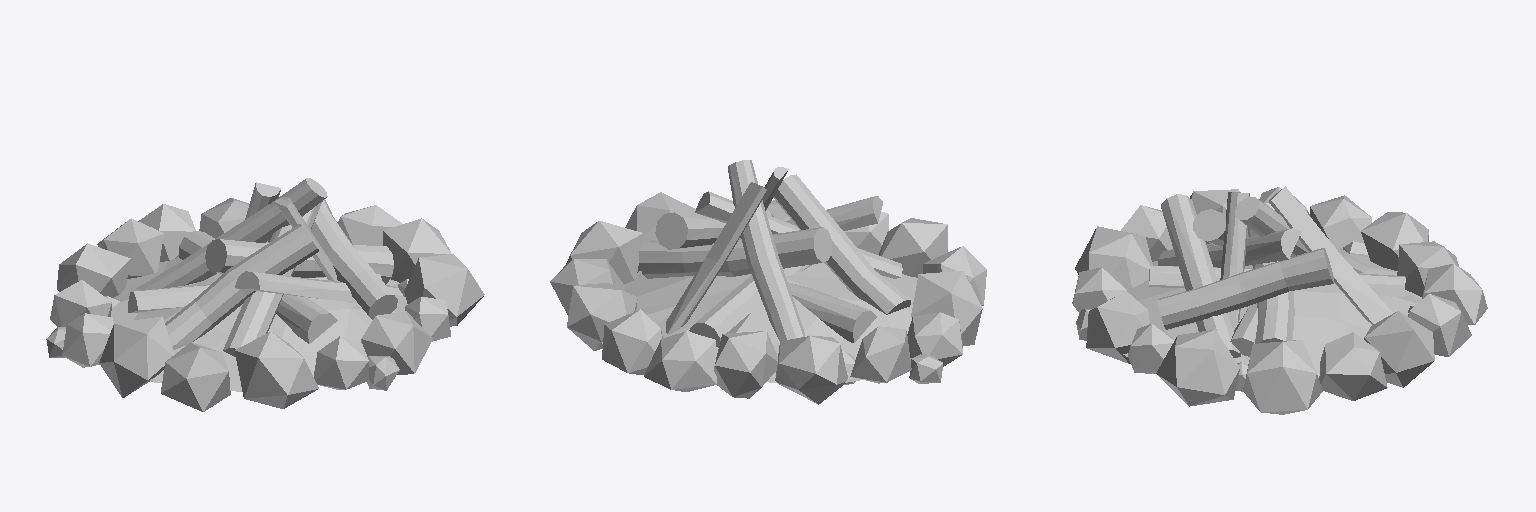
The model's file is fogueiraV1.obj.
3 views of the same model, side by side, from view 1: azimuth 30°, elevation 25°; view 2: azimuth 150°, elevation 25°; view 3: azimuth 270°, elevation 25° (orthographic).
Visible parts, largest first — view 1: Plane; view 2: Plane; view 3: Plane.
Boxes of the visible parts, <box> form: Plane: <box>46,178,484,411</box>; Plane: <box>550,160,986,404</box>; Plane: <box>1072,186,1487,414</box>.
Size of the model in its own units: 6.26 by 2.38 by 5.79.